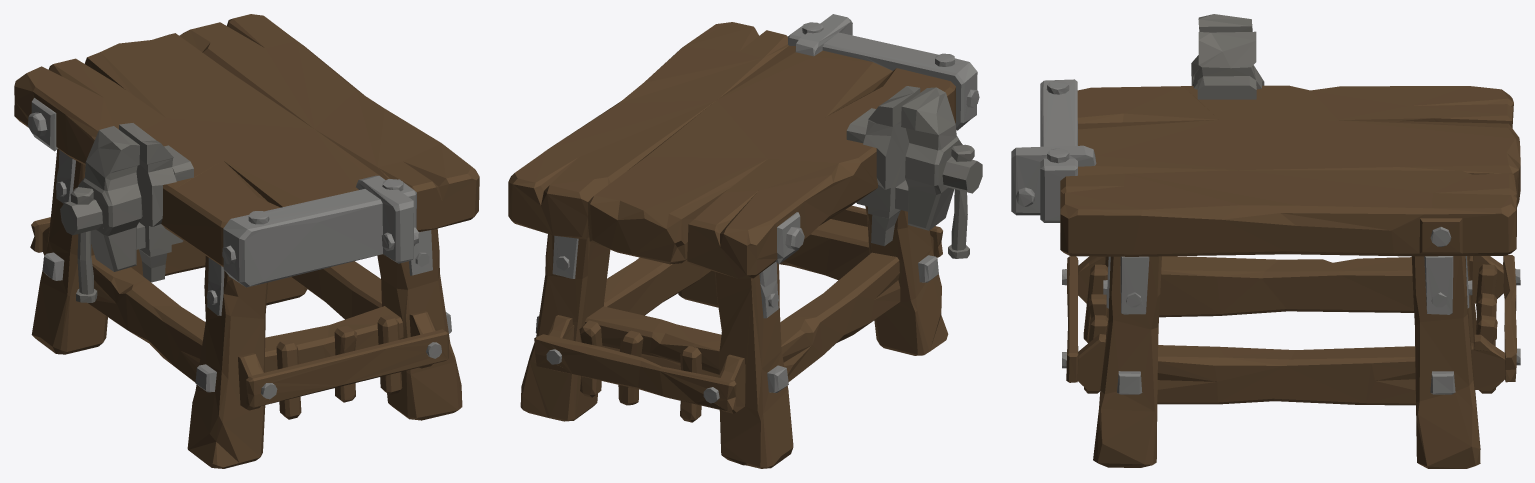
Rendered from CarpenterWorkbench.fbx.
3 views of the same model, side by side, from view 1: azimuth 30°, elevation 25°; view 2: azimuth 150°, elevation 25°; view 3: azimuth 270°, elevation 25° (orthographic). The views are drawn at different scales.
Parts seen in each view (by area): view 1: CarpenterWorkbench; view 2: CarpenterWorkbench; view 3: CarpenterWorkbench.
Part boxes in pixels (<box>): CarpenterWorkbench: <box>14,14,479,468</box>; CarpenterWorkbench: <box>508,14,982,468</box>; CarpenterWorkbench: <box>1011,14,1520,468</box>.
Size of the model in its own units: 1.35 by 1.7 by 1.13.
